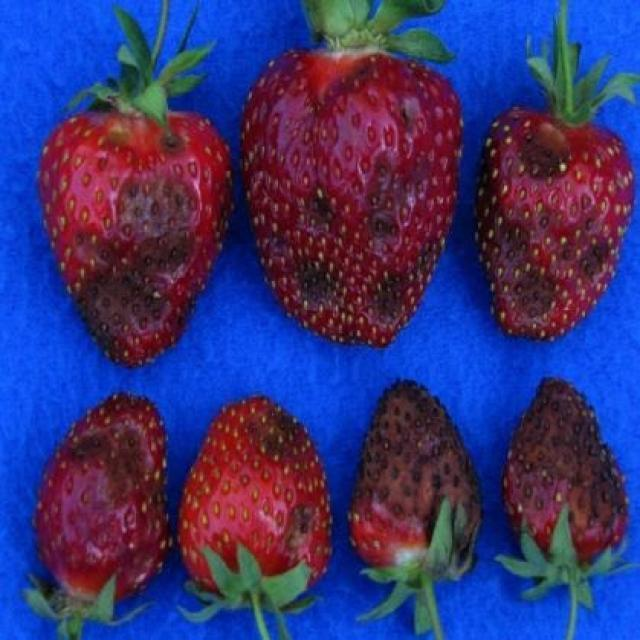Anthracnose Fruit Rot: (239, 51, 462, 348), (36, 87, 235, 370), (479, 107, 634, 343), (349, 380, 483, 640), (500, 378, 630, 640), (180, 396, 334, 617), (32, 393, 172, 608)
